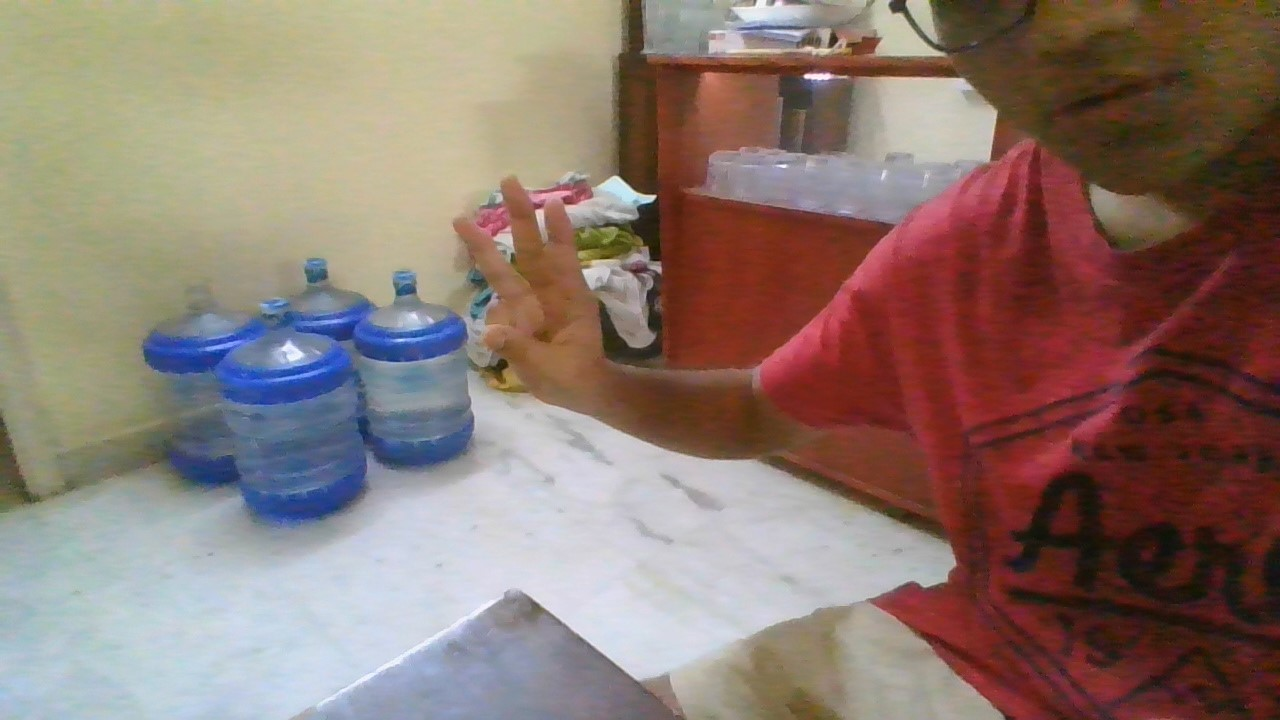w: (447, 170, 610, 412)
